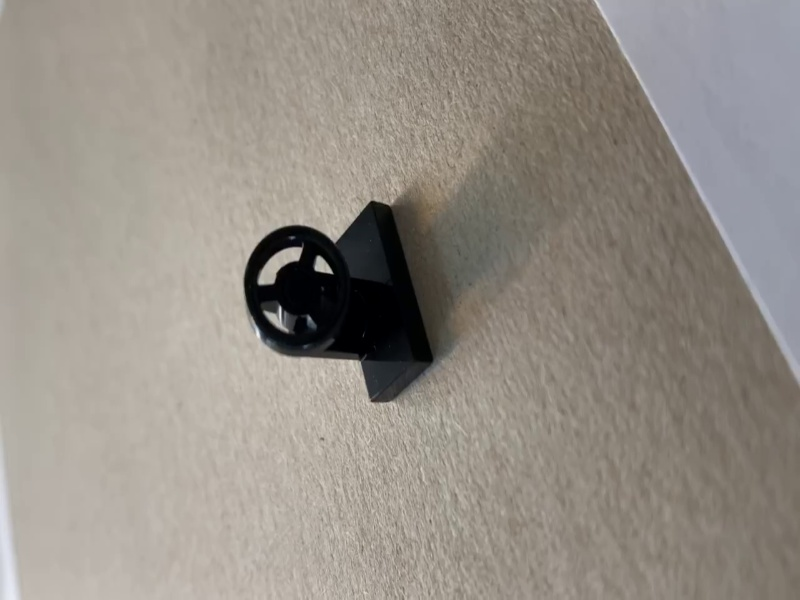steering wheel: (244, 199, 435, 405)
